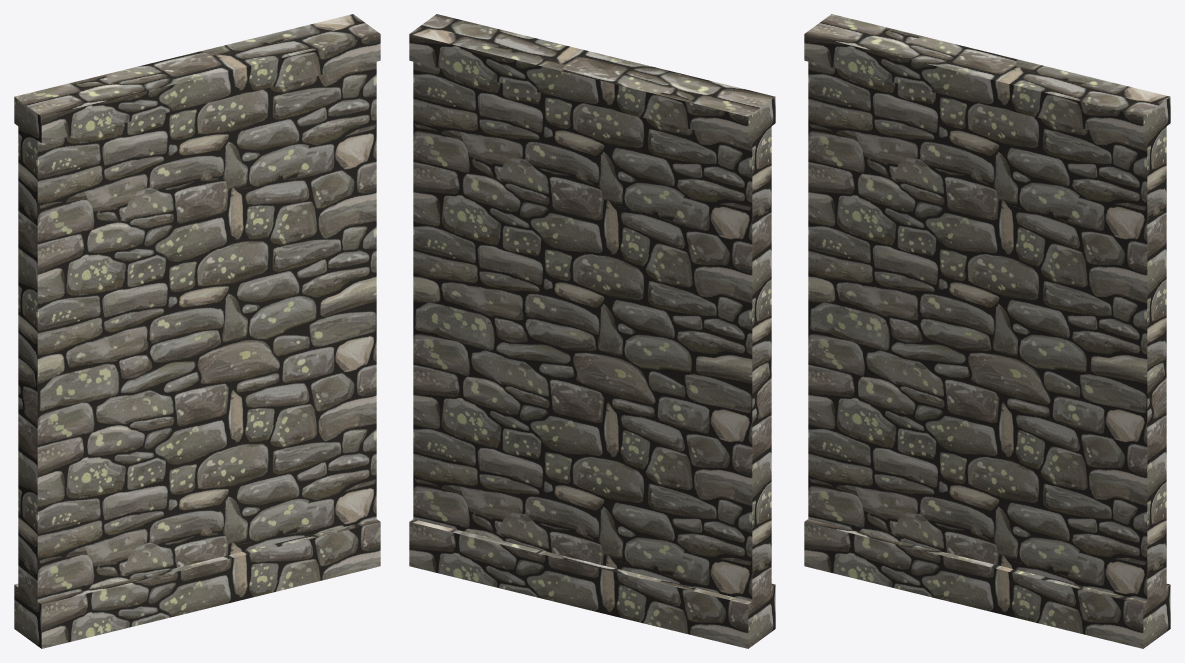
Rendered from wall_straight.obj.
The picture shows the model from 3 angles, left to right: view 1: azimuth 30°, elevation 25°; view 2: azimuth 150°, elevation 25°; view 3: azimuth 330°, elevation 25°; orthographic projection.
Parts seen in each view (by area): view 1: wall_straight; view 2: wall_straight; view 3: wall_straight.
Part boxes in pixels (box(x1,y1,x2,y2)): wall_straight: box(14, 14, 380, 648); wall_straight: box(409, 14, 775, 648); wall_straight: box(804, 14, 1170, 648).
Size of the model in its own units: 2 by 3 by 0.28.
1 material, 1 textured.
